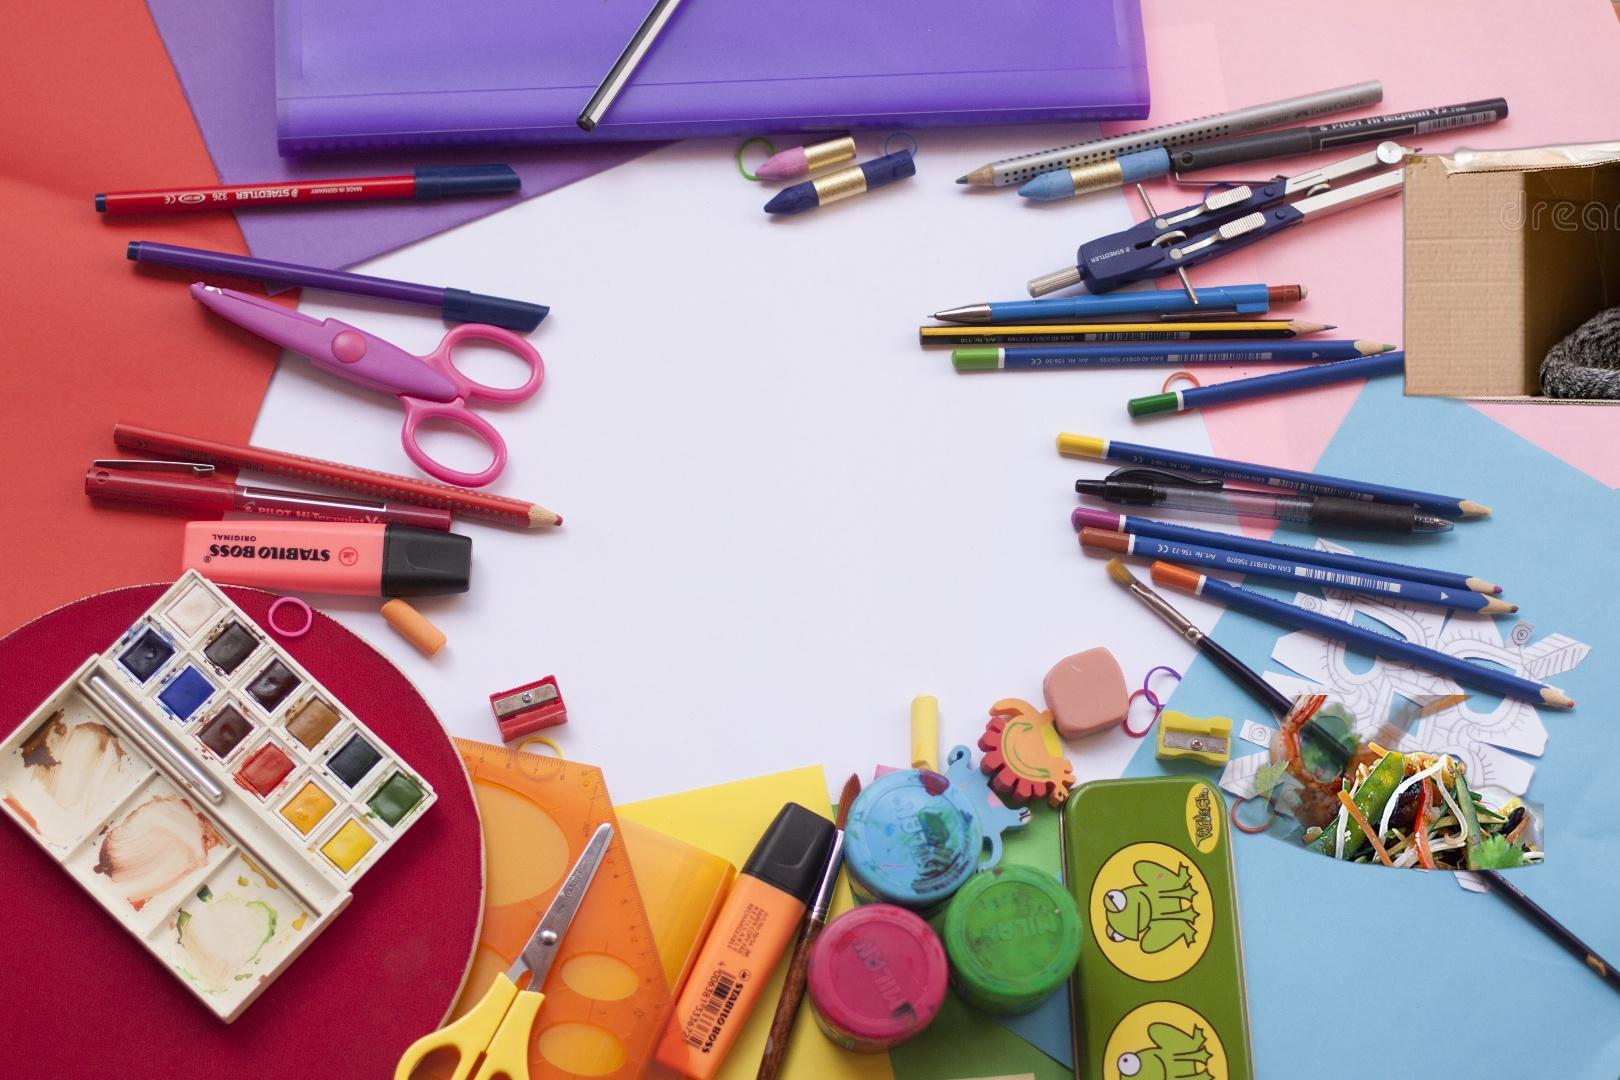biological: (1144, 695, 1544, 951), (1108, 1011, 1377, 1080)
trashbox-cardboard: (1396, 108, 1620, 413)
